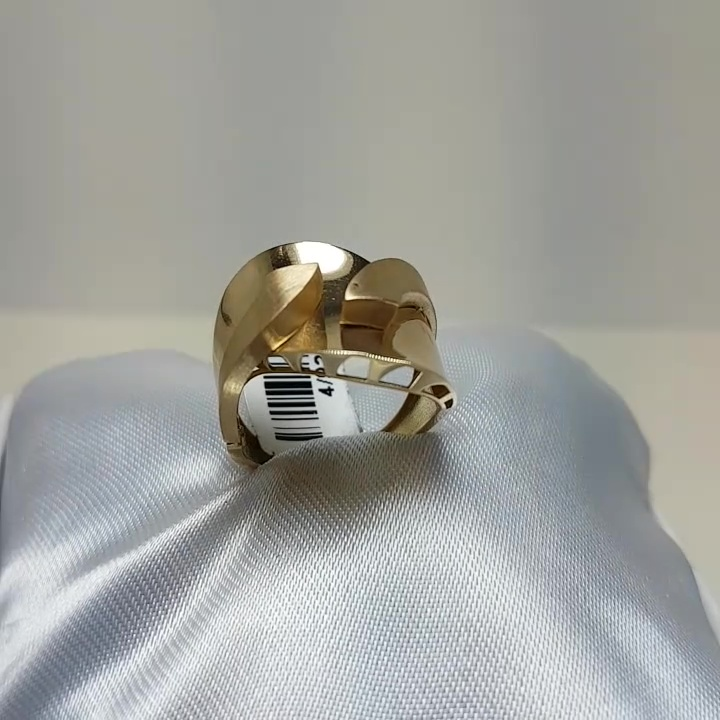Ring 4: (197, 203, 466, 504)
